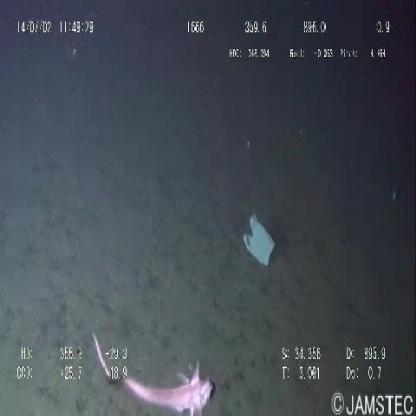Bio: (88, 331, 217, 416)
Rác: (235, 204, 283, 274)
